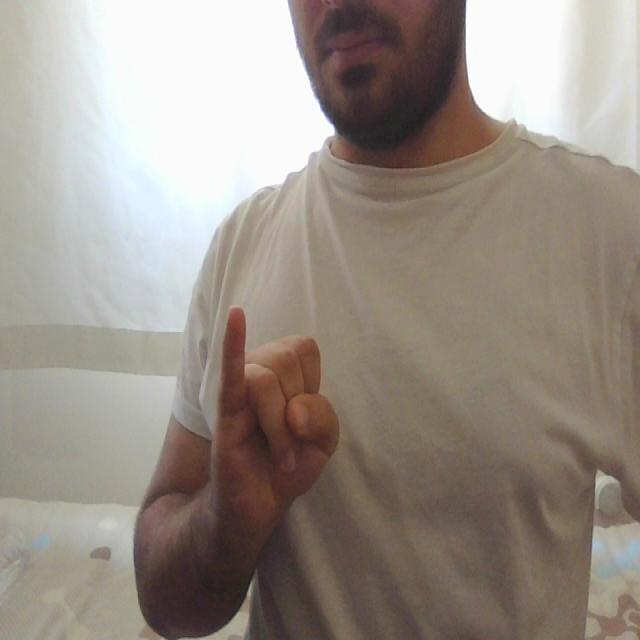kotu: (211, 292, 348, 493)
